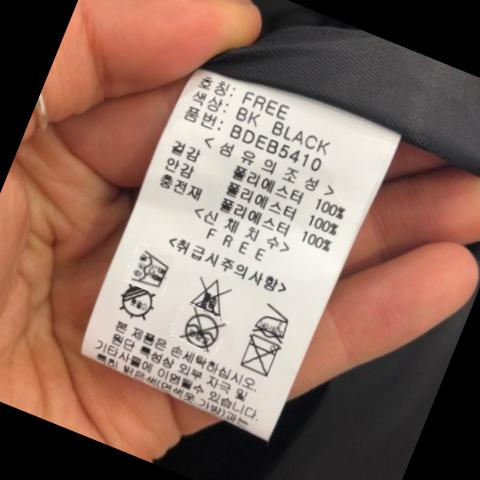DN_dry_clean: (179, 311, 232, 348)
DN_wash: (239, 337, 287, 378)
dry_flat: (127, 244, 181, 285)
iron_medium: (249, 297, 301, 339)
line_dry_in_shade: (119, 288, 163, 321)
non_chlorine_bleach: (185, 276, 232, 314)
